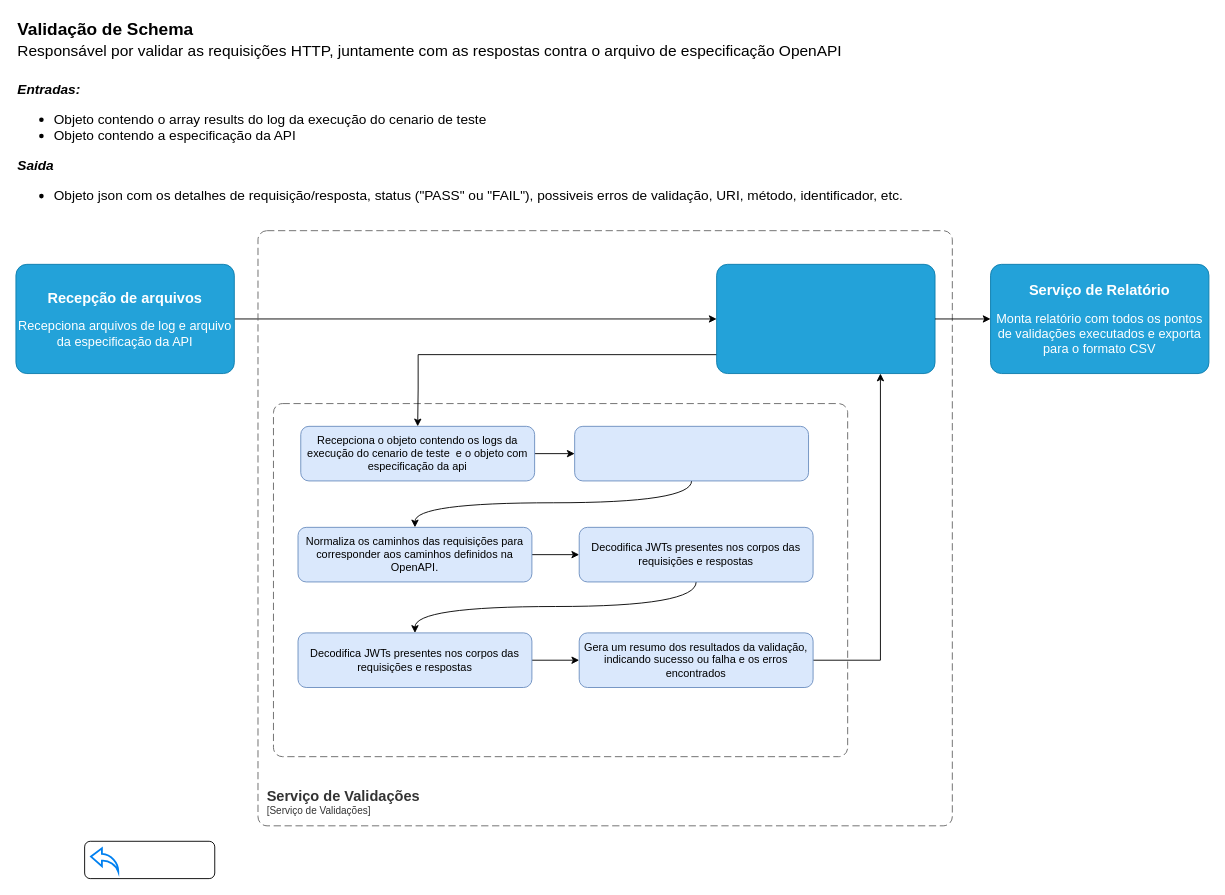
The diagram is 1225 pixels wide and 895 high, and some of its shapes have lost their labels. The box of each missing label's shape, as (x1, y1, x2, y2) in pixels:
Identifica os endpoints contidos no objeto logs: (574, 425, 809, 481)
Orquestrador Valida request e response através da especificação da API: (716, 263, 935, 374)
Validação de schema [Valida request e response através da especificação da API]: (273, 403, 848, 757)
Voltar: (84, 840, 215, 879)
